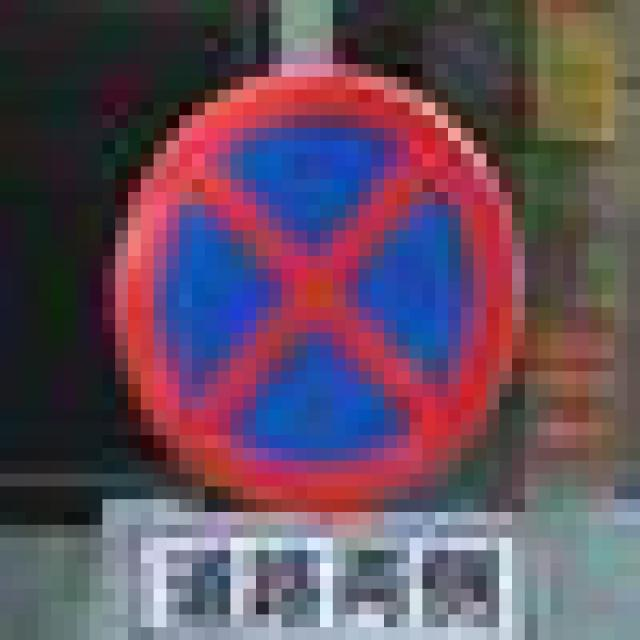no_parking: (102, 64, 512, 499)
